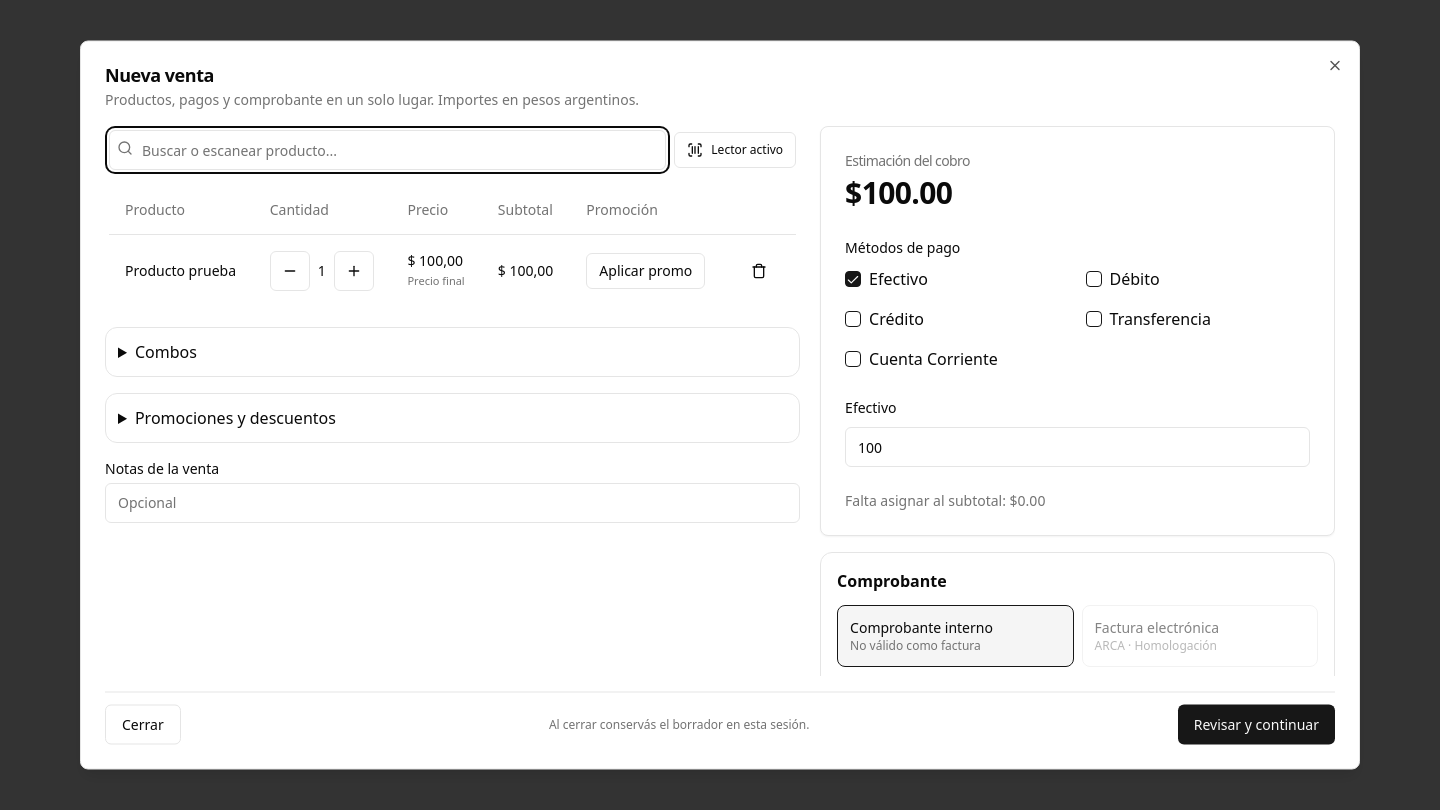
Test: invalidates review when editable data changes
Click the button "Revisar y continuar" at (1256, 724), box 1178,704 -> 1335,744
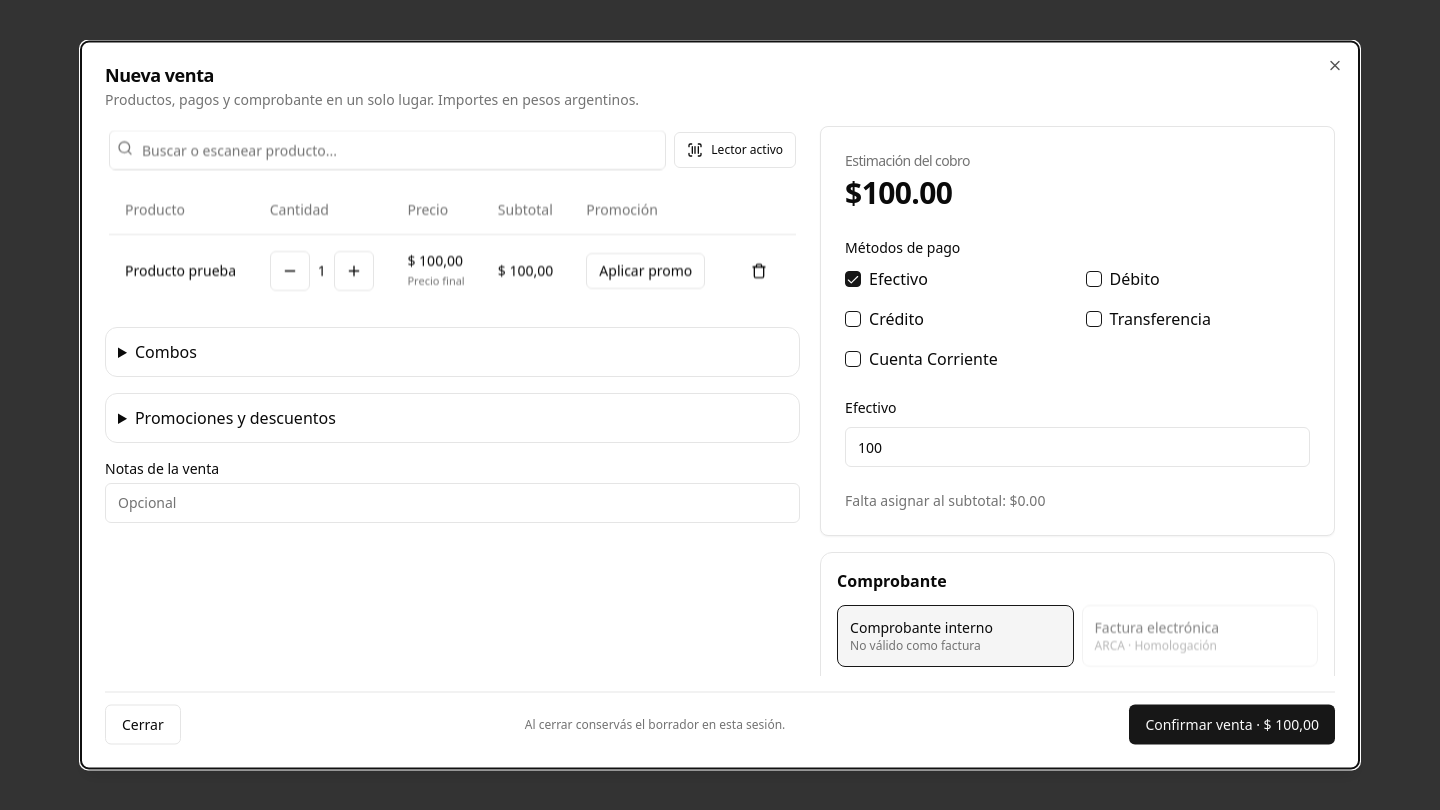
Now the button "Confirmar venta · $ 100,00" is shown, box 1129,704 -> 1335,744
Type "Cambio" into the field labelled "Notas de la venta" at (453, 502), box 105,482 -> 800,522
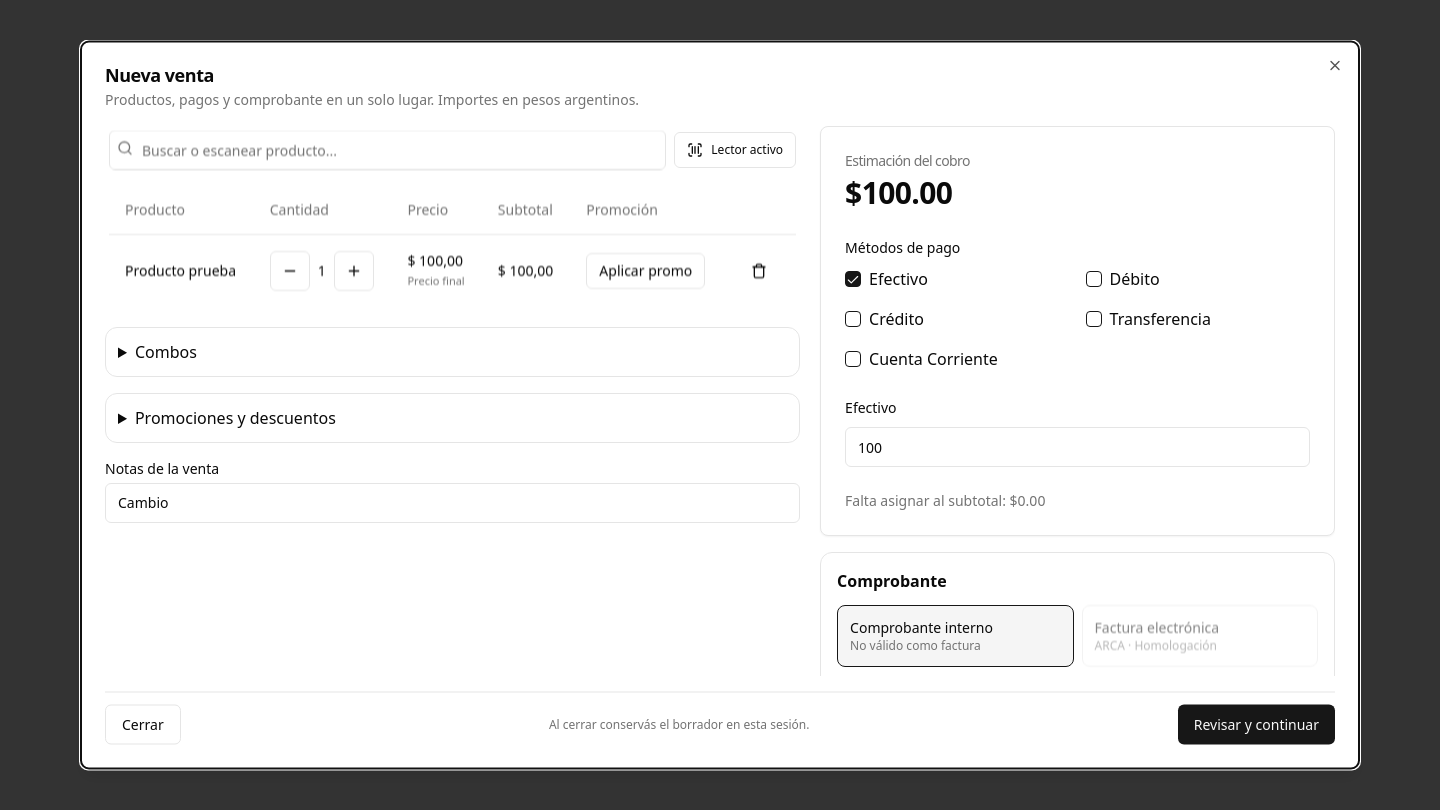
Now the button "Confirmar venta" is gone
